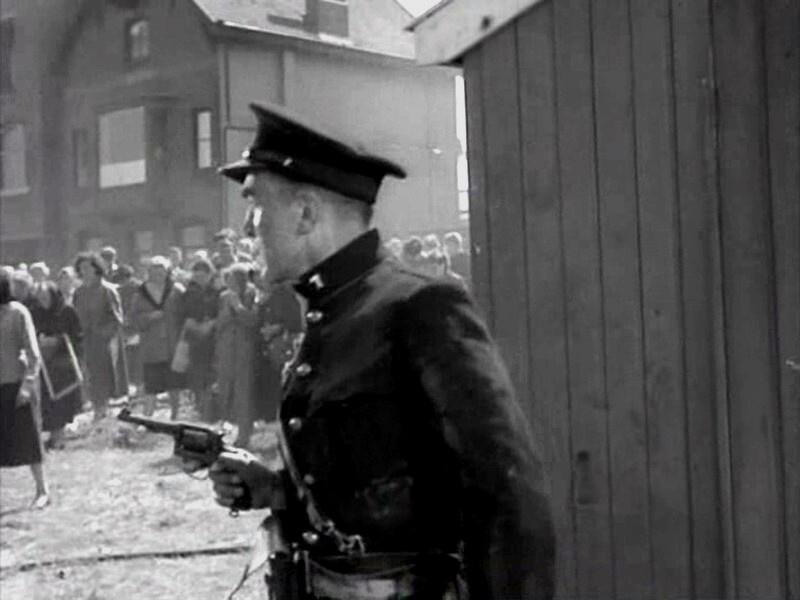gun: (103, 398, 249, 514)
